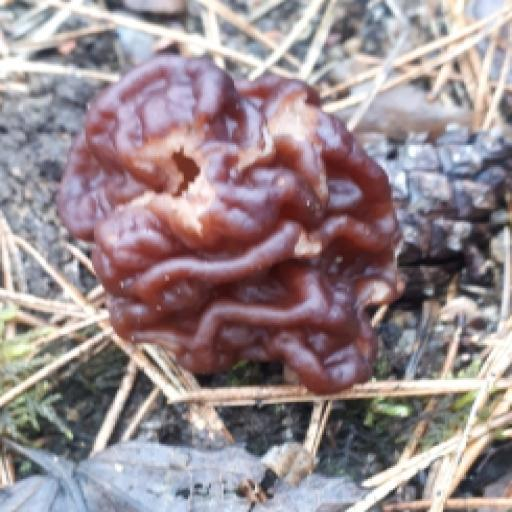mushroom: (27, 35, 441, 413)
